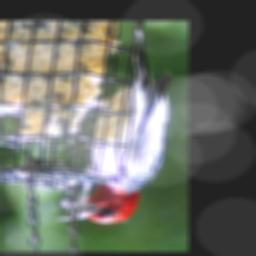Woodpecker: (51, 21, 171, 225)
